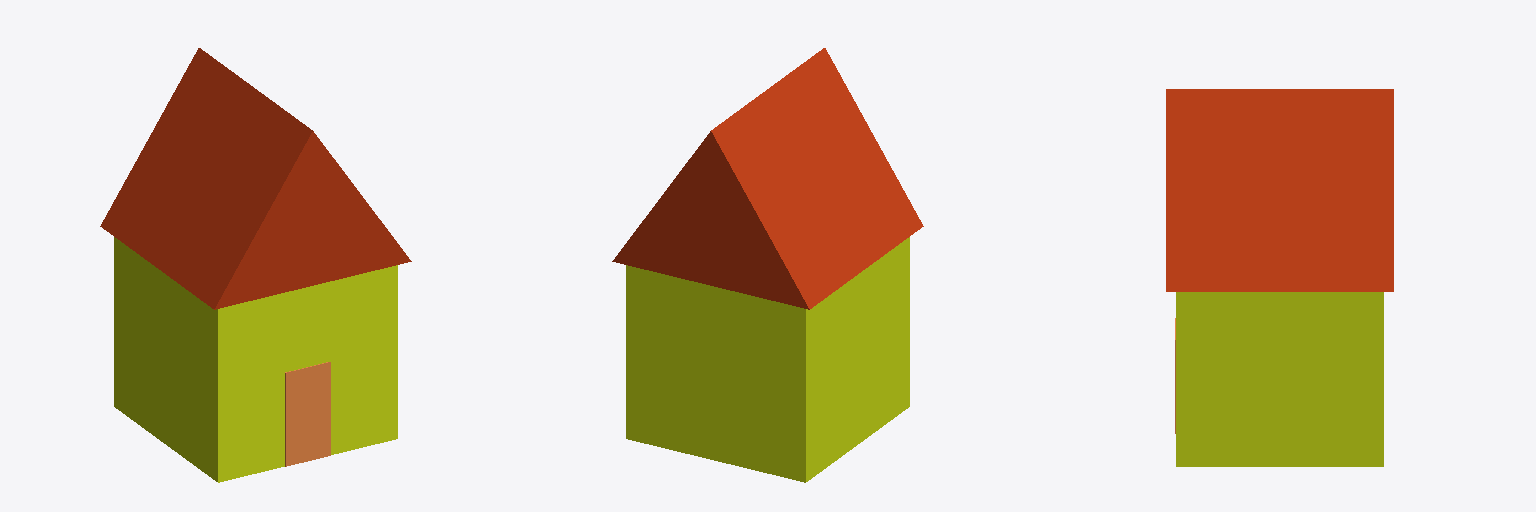
File: house.obj
3 views of the same model, side by side, from view 1: azimuth 30°, elevation 25°; view 2: azimuth 150°, elevation 25°; view 3: azimuth 270°, elevation 25° (orthographic).
Visible parts, largest first — view 1: Cube, Cube.001, Cube.002; view 2: Cube, Cube.001; view 3: Cube.001, Cube.
Boxes of the visible parts, box(x1,y1,x2,y2) form: Cube: box(114, 237, 397, 482); Cube.001: box(100, 48, 411, 309); Cube.002: box(285, 362, 330, 466); Cube: box(626, 237, 909, 482); Cube.001: box(612, 48, 923, 309); Cube.001: box(1166, 89, 1393, 291); Cube: box(1176, 292, 1383, 466).
Bounding box in the file's own units: 2.2 × 3.56 × 2.2.